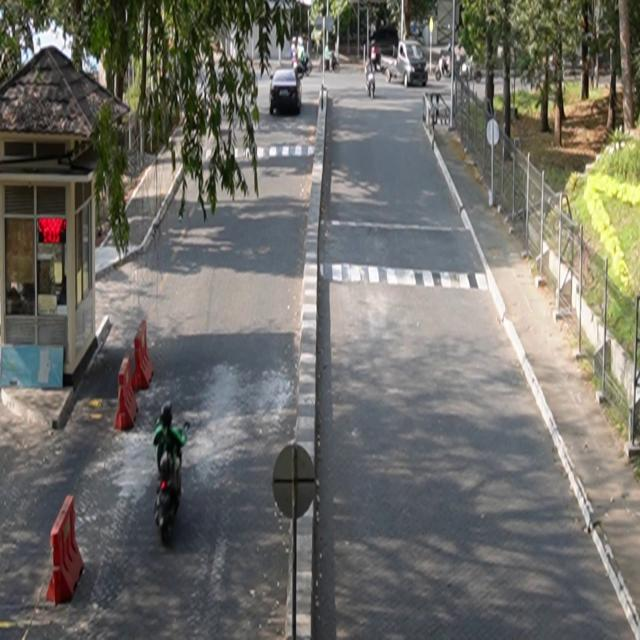car: (270, 69, 303, 116)
